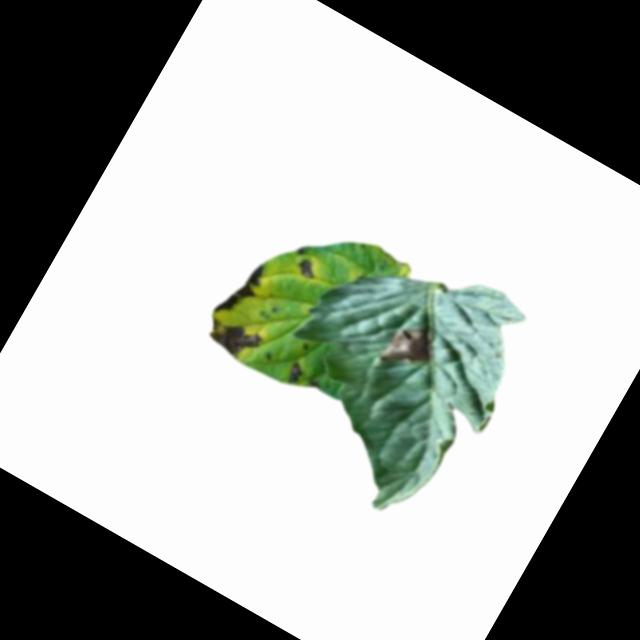Early_blight: (210, 254, 270, 327), (376, 316, 441, 381), (202, 310, 268, 368), (280, 357, 308, 387), (291, 256, 319, 281)
